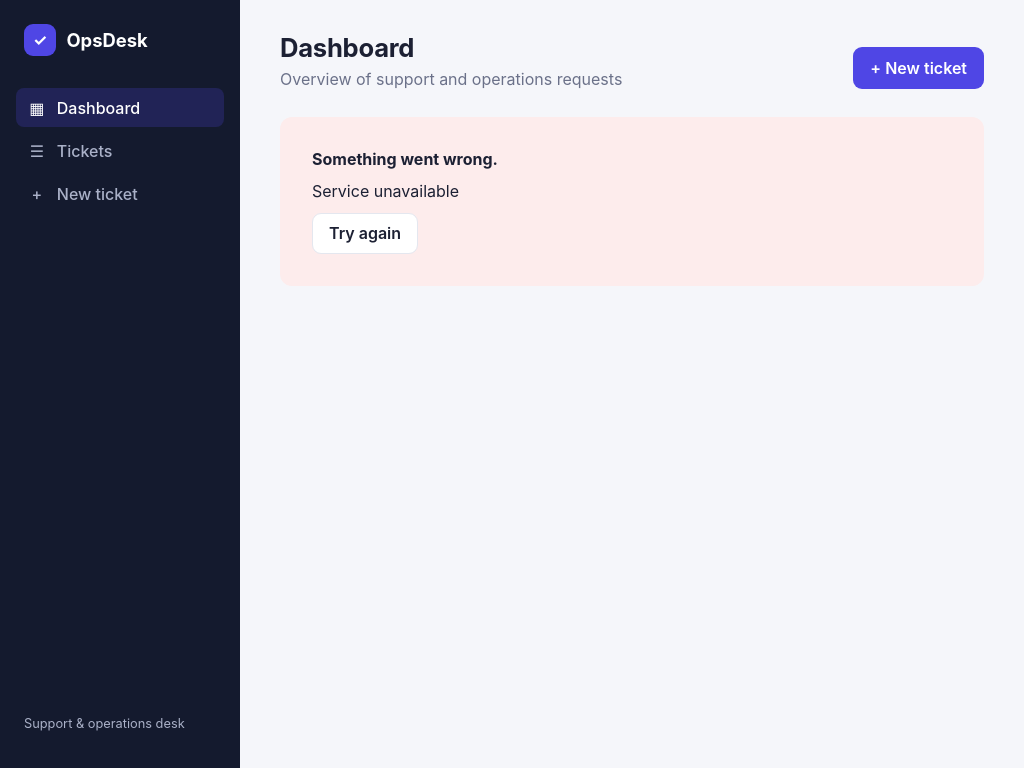
it: Dashboard › shows an error with retry when the API is down
Expected: the message shows "Service unavailable", [312,181,459,201]
Click the button "Try again": (365, 233) [312,213,418,254]
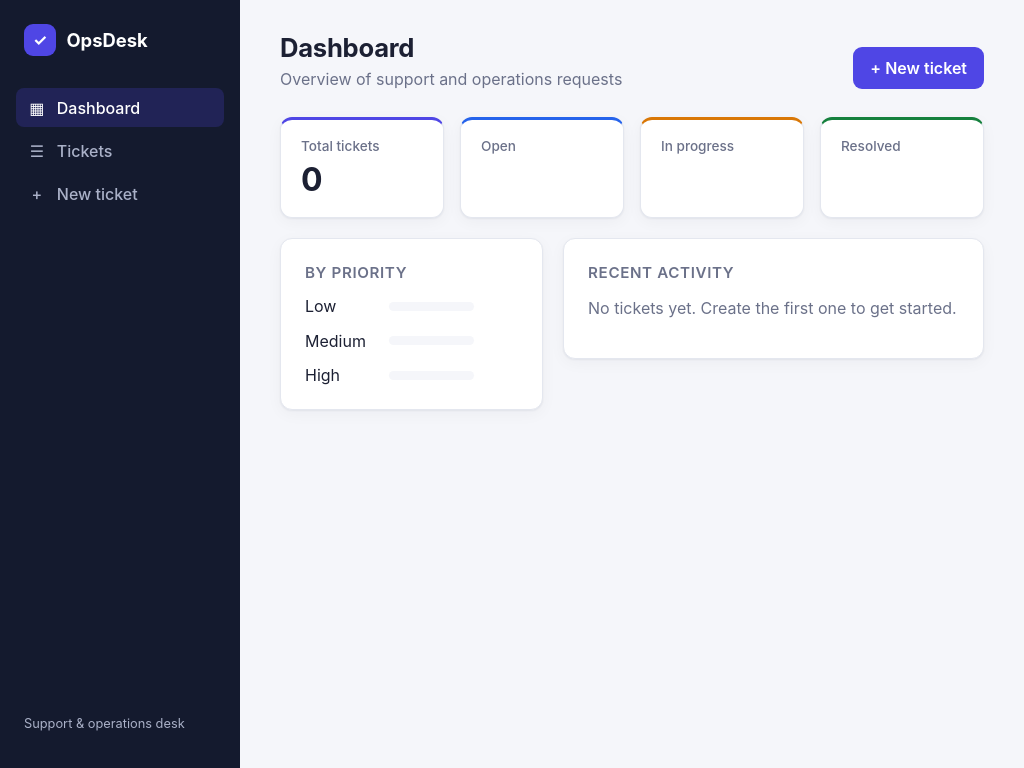
Expected: the text "No tickets yet. Create the first one to get started." is shown, [588,298,959,318]
